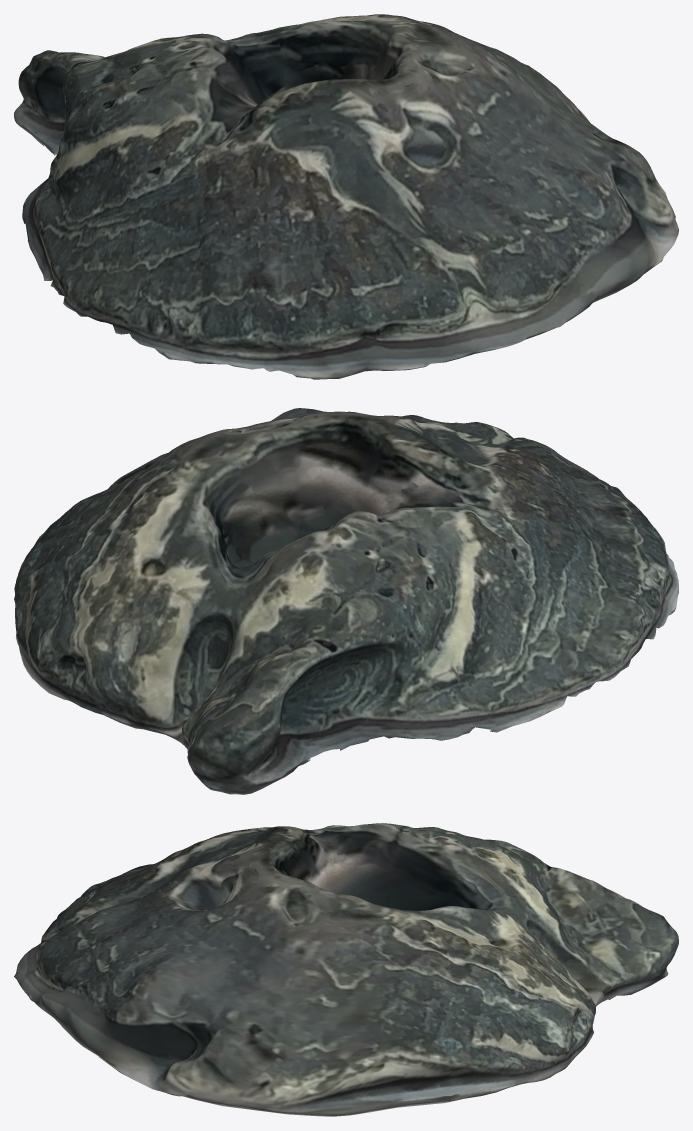
File: caracola-limpia.glb
3 views of the same model, one above another, from view 1: azimuth 30°, elevation 25°; view 2: azimuth 150°, elevation 25°; view 3: azimuth 270°, elevation 25° (orthographic). The views are drawn at different scales.
Visible parts, largest first — view 1: ObjectCapture; view 2: ObjectCapture; view 3: ObjectCapture.
Boxes of the visible parts, x1=… form: ObjectCapture: x1=14, y1=14, x2=678, y2=379; ObjectCapture: x1=14, y1=408, x2=678, y2=794; ObjectCapture: x1=14, y1=823, x2=678, y2=1116.
Bounding box in the file's own units: 0.2103 × 0.0693 × 0.2631.
1 material, 1 textured.
